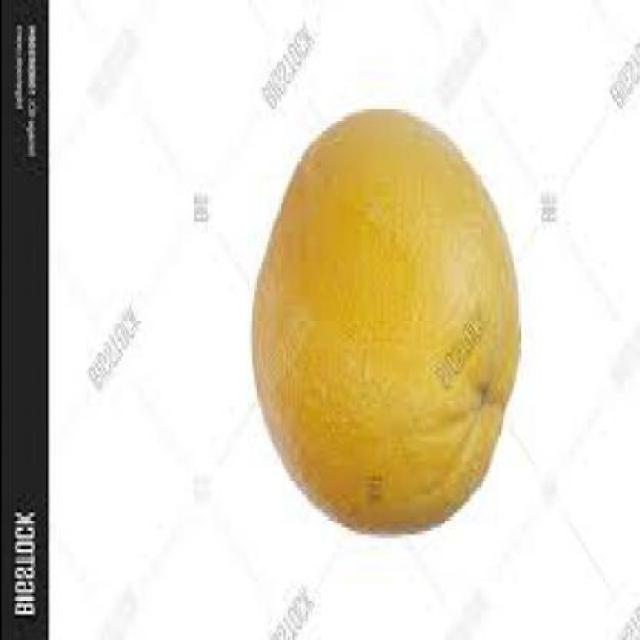BIODEGRADABLE: (252, 110, 518, 532)
